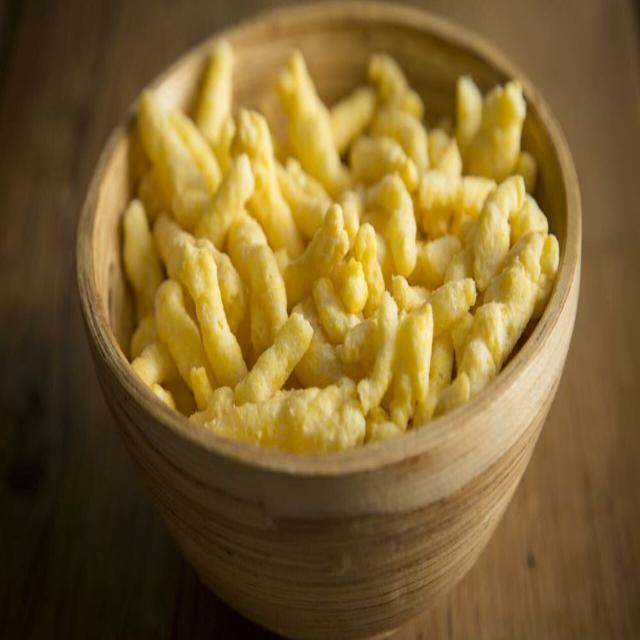Chips packaged: (164, 222, 250, 389), (240, 310, 318, 412), (284, 201, 356, 306), (381, 174, 420, 264)
